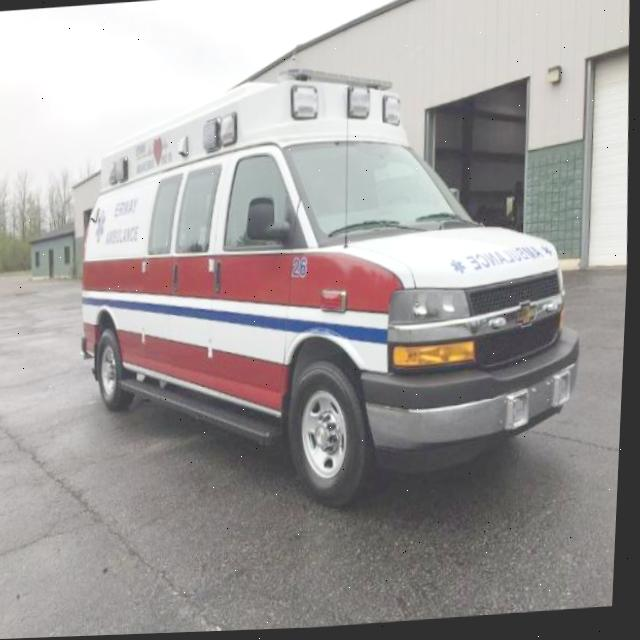emergency: (65, 41, 607, 535)
